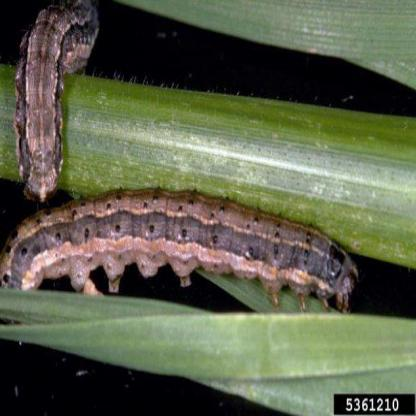armyworm: (0, 183, 362, 319), (10, 0, 96, 210)
